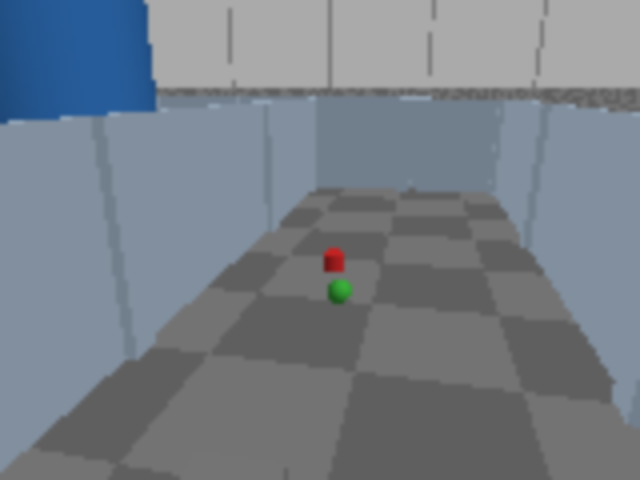obstacle: (152, 451, 289, 478)
puck: (325, 275, 354, 309), (324, 250, 344, 272)
